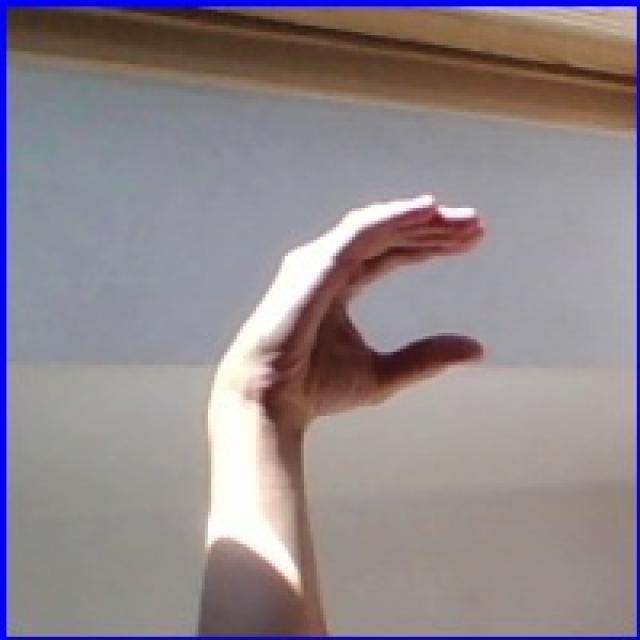Letra C: (188, 180, 506, 470)
